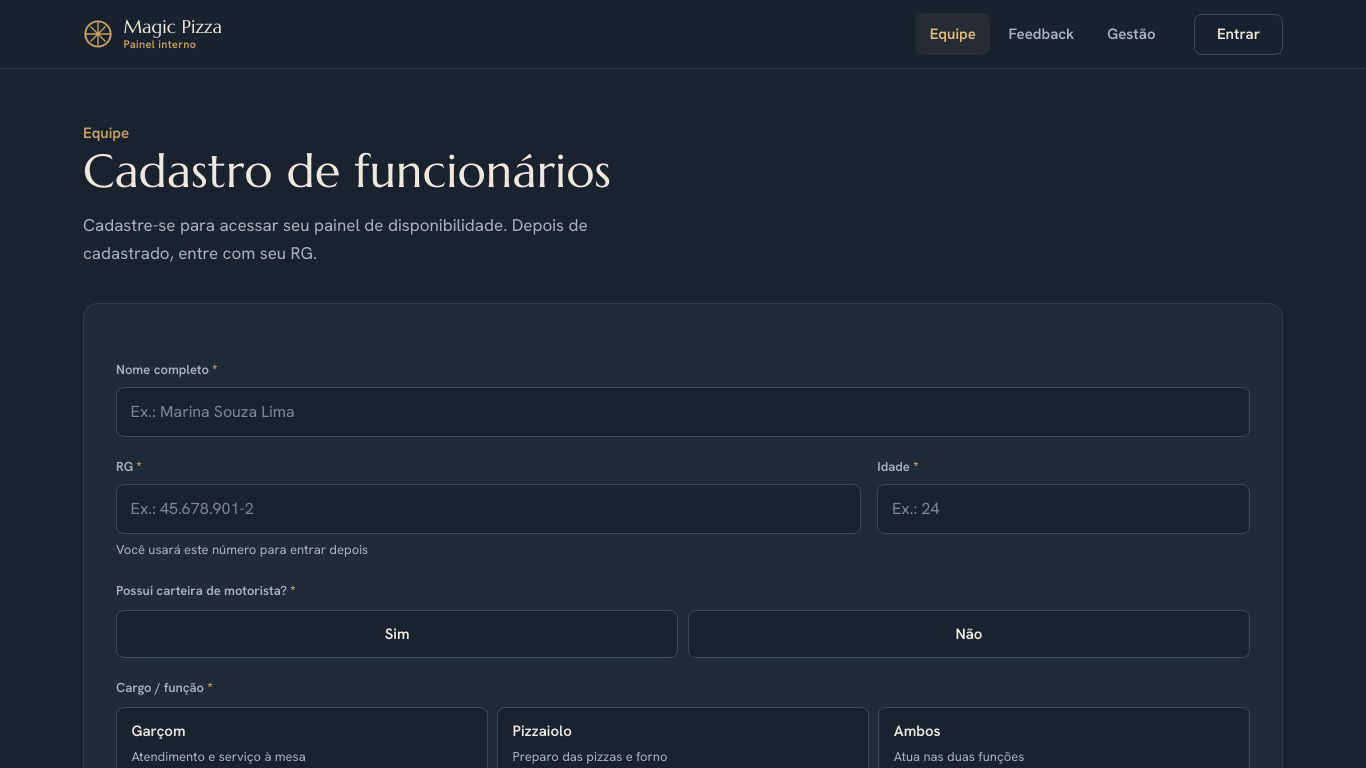
Fluxo de cadastro, login e disponibilidade › rejeita RG inválido no cadastro e impede duplicidade
Type "João Pedro" into the field labelled "Nome completo *" at (683, 412), box [116,387,1250,437]
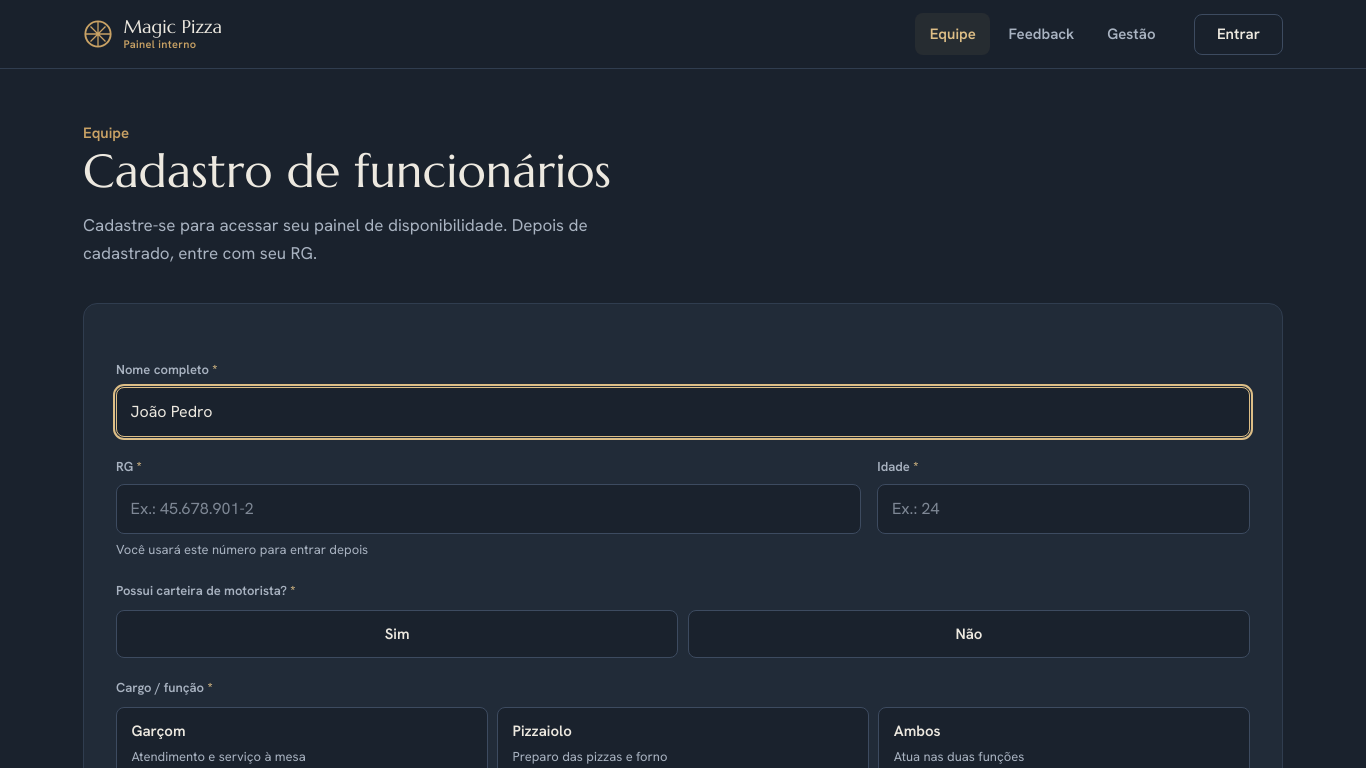
Type "abc" into the field labelled "RG *" at (489, 509), box [116,484,861,534]
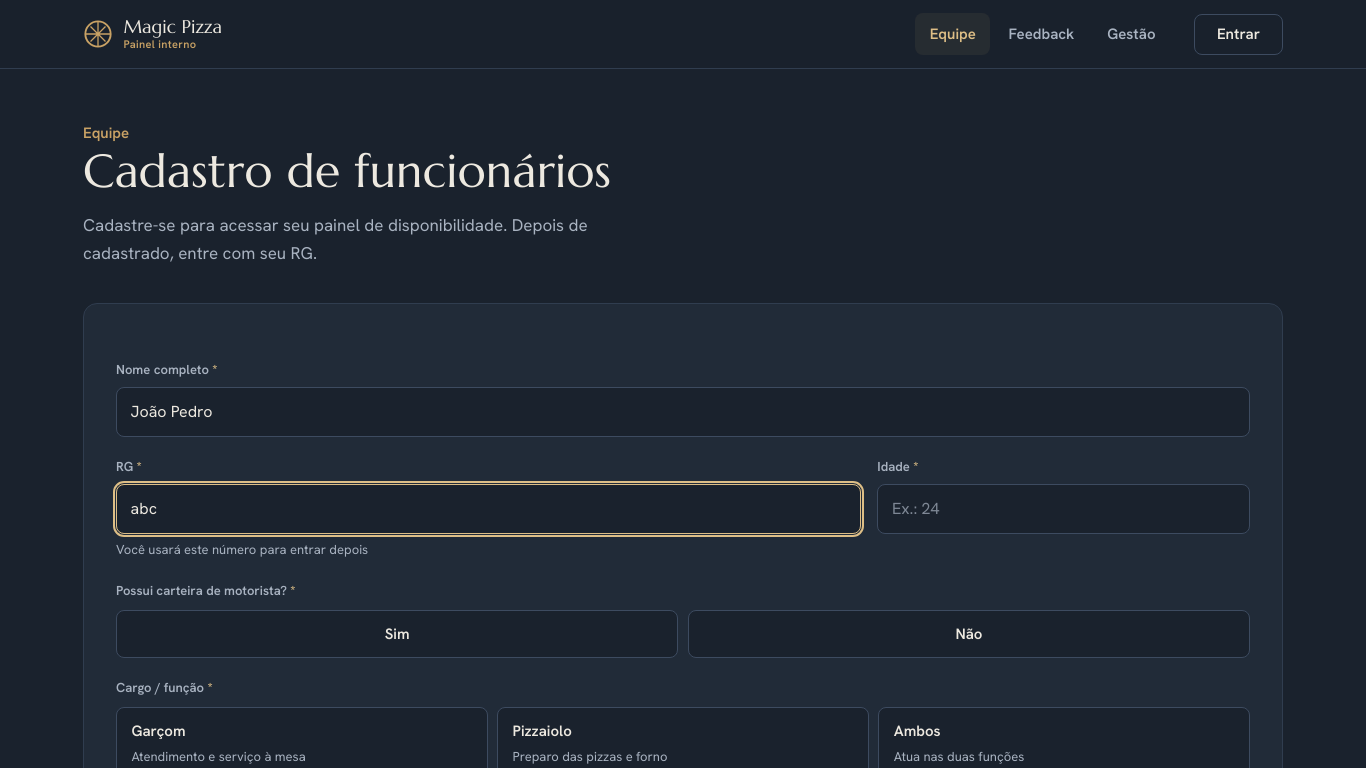
Type "30" into the number field labelled "Idade *" at (1064, 509), box [877,484,1250,534]
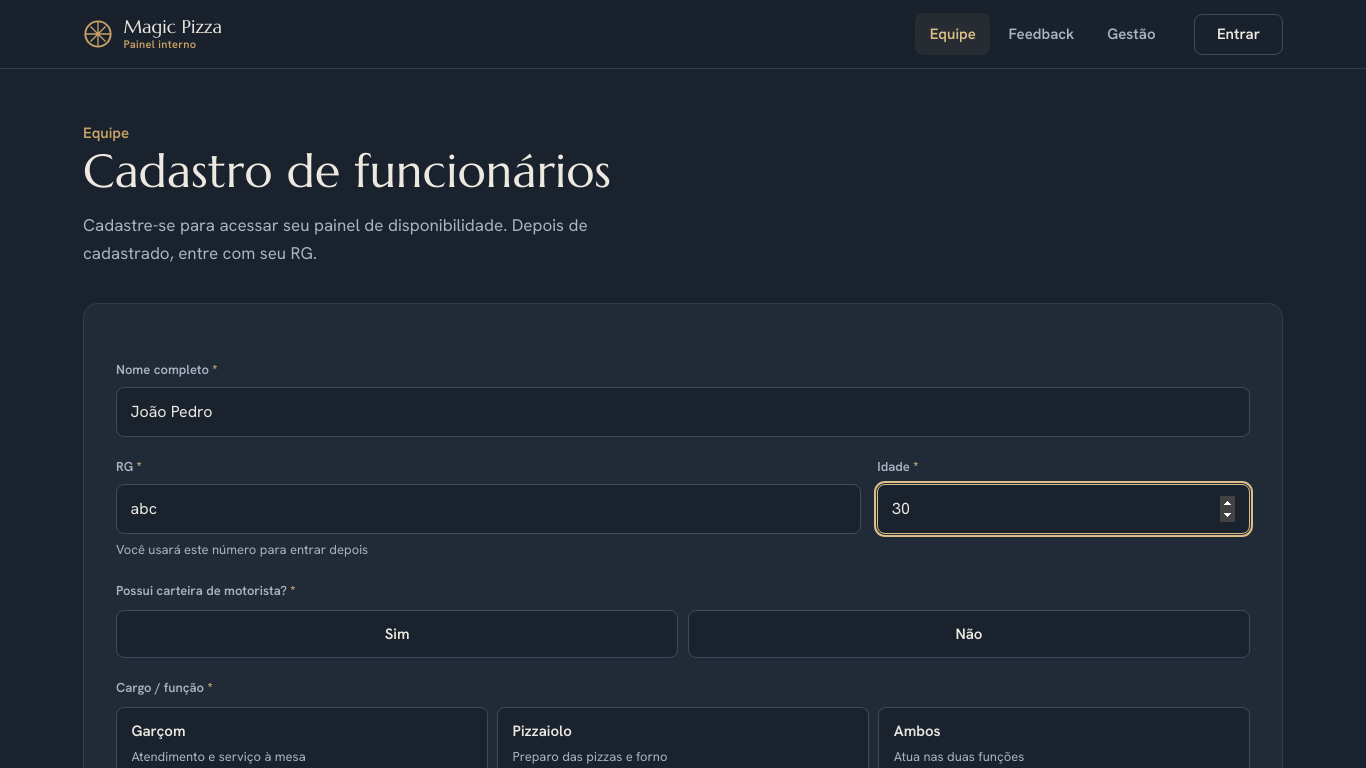
Click the radio button labelled "Não" at (969, 634), box [688,610,1250,658]
(page scrolled)
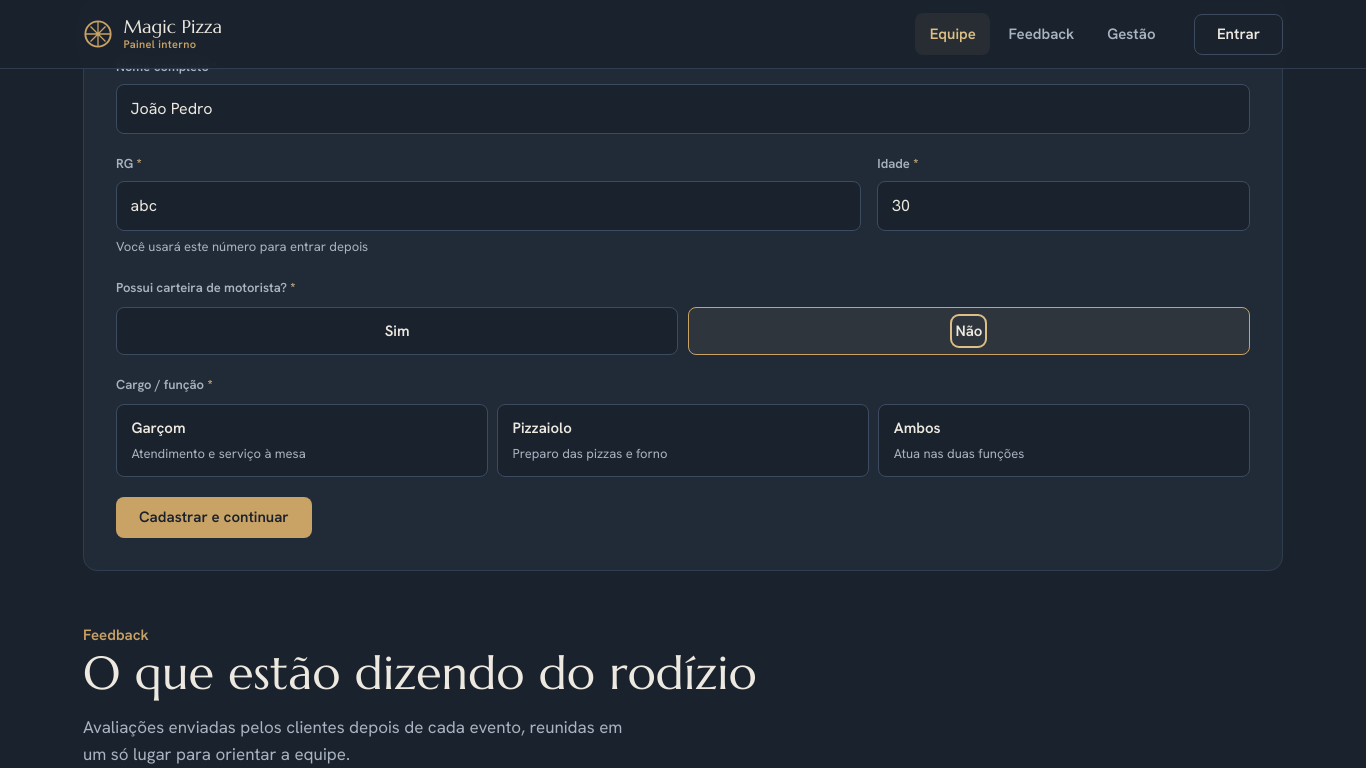
Click the radio button labelled "Pizzaiolo Preparo das pizzas e forno" at (542, 428), box [497,404,869,477]
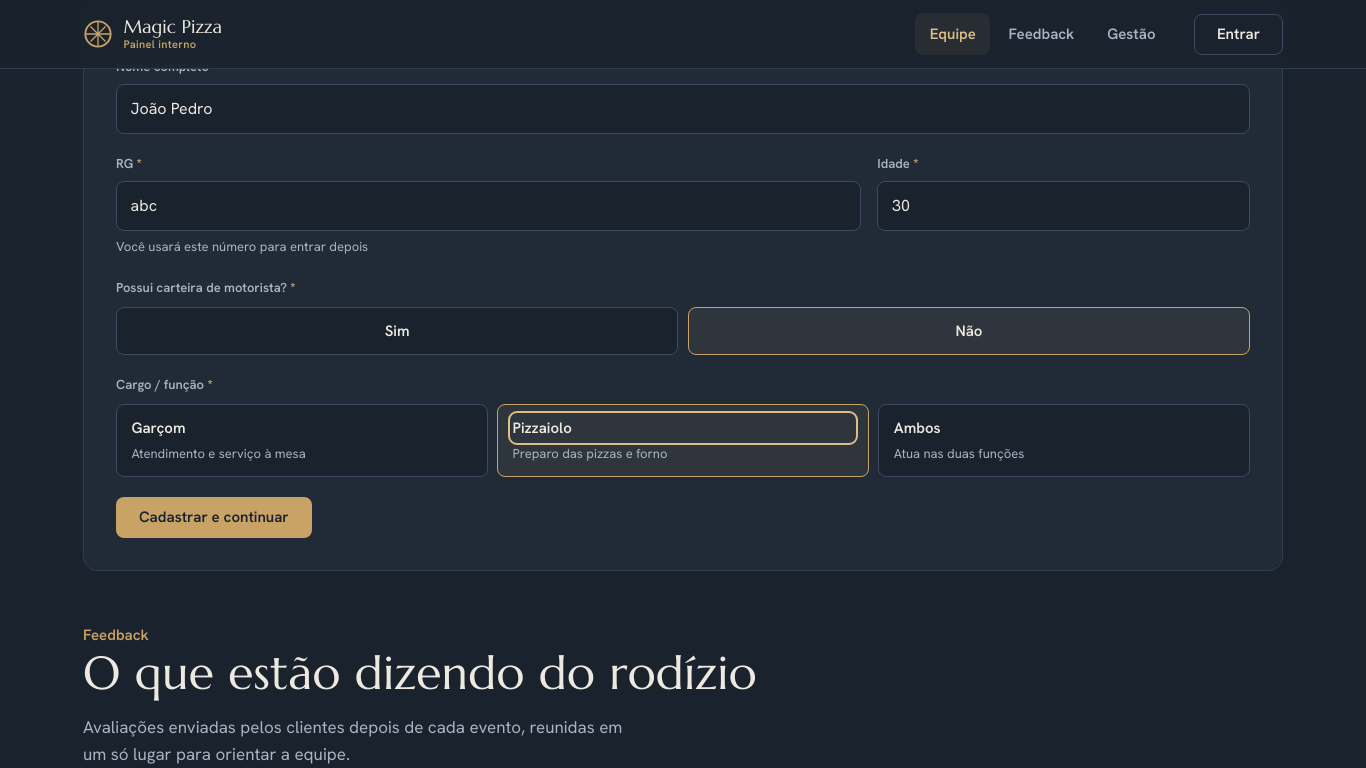
Click the button "Cadastrar e continuar" at (214, 517), box [116,497,312,538]
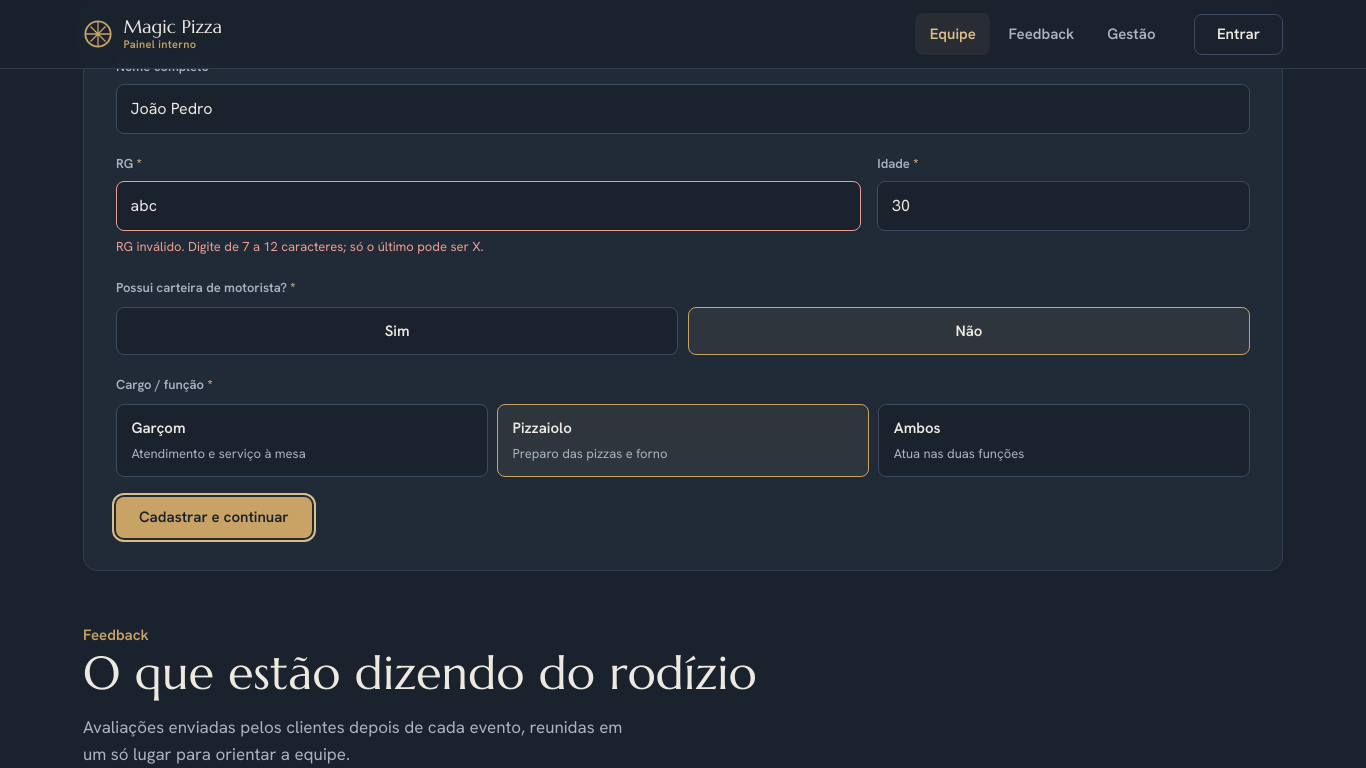
Now the text "RG inválido. Digite de 7 a 12 caracteres; só o último pode ser X." is shown, box [116,238,484,255]
